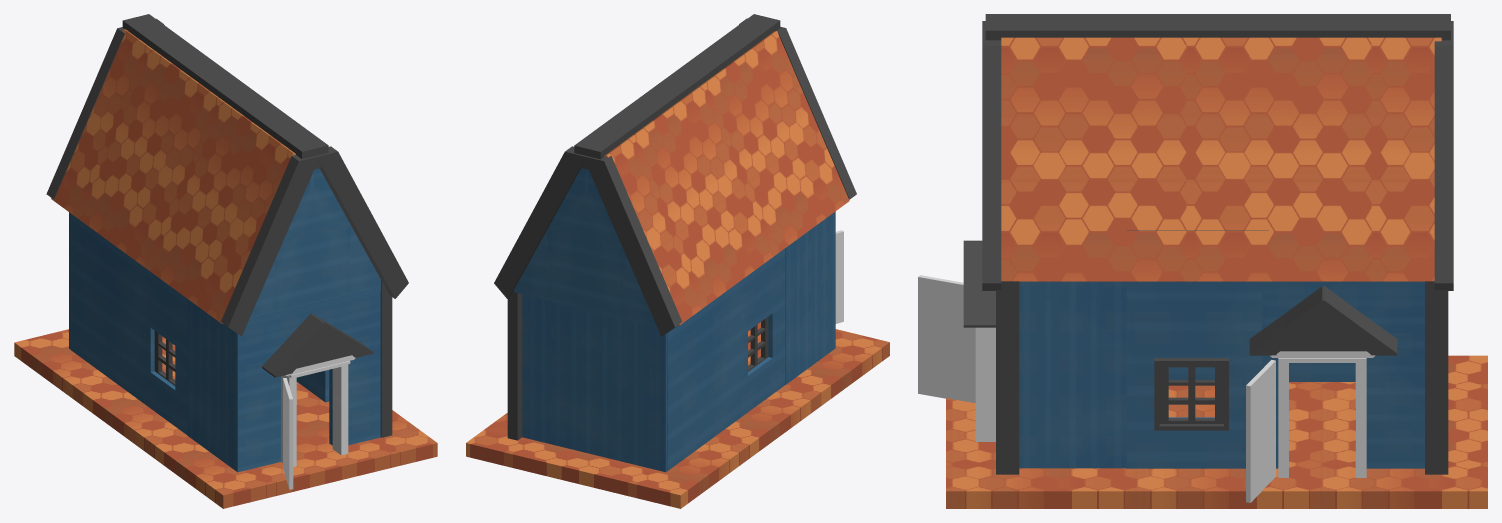
The model's file is MediumHouse.fbx.
3 renders of one model, left to right at view 1: azimuth 30°, elevation 25°; view 2: azimuth 150°, elevation 25°; view 3: azimuth 270°, elevation 25°, orthographic. The views are drawn at different scales.
Parts seen in each view (by area): view 1: Plane.013, Plane.018, Plane.138, Plane.012, Plane, Plane.007, Plane.016, Plane.135, Plane.030, Plane.009, Plane.017, Plane.008 (+4 smaller); view 2: Plane.013, Plane.021, Plane.018, Plane.138, Plane.136, Plane.012, Plane.007, Plane.135, Plane.052, Plane.029, Plane.137; view 3: Plane.013, Plane.018, Plane.007, Plane.102, Plane.135, Plane.134, Plane.012, Plane.133, Plane.017, Plane.052, Plane.079, Plane.029 (+10 smaller).
Part boxes in pixels (box(x1,y1,x2,y2)): Plane.013: box(51, 29, 295, 323); Plane.018: box(14, 329, 437, 508); Plane.138: box(70, 213, 187, 435); Plane.012: box(46, 18, 408, 336); Plane: box(250, 168, 381, 317); Plane.007: box(187, 290, 381, 472); Plane.016: box(238, 303, 309, 471); Plane.135: box(122, 14, 328, 169); Plane.030: box(309, 286, 381, 445); Plane.009: box(262, 313, 373, 377); Plane.017: box(381, 280, 392, 437); Plane.008: box(319, 364, 348, 455); Plane.013: box(604, 31, 849, 325); Plane.021: box(522, 294, 667, 472); Plane.018: box(466, 322, 889, 508); Plane.138: box(667, 248, 785, 470); Plane.136: box(514, 168, 656, 326); Plane.012: box(494, 18, 856, 336); Plane.007: box(785, 211, 835, 384); Plane.135: box(574, 14, 780, 169); Plane.052: box(507, 290, 522, 440); Plane.029: box(835, 230, 843, 323); Plane.137: box(748, 317, 768, 371); Plane.013: box(1001, 37, 1441, 281); Plane.018: box(946, 355, 1487, 508); Plane.007: box(1019, 281, 1126, 468); Plane.102: box(1126, 230, 1268, 468); Plane.135: box(985, 14, 1450, 40); Plane.134: box(1321, 281, 1424, 468); Plane.012: box(982, 21, 1453, 290); Plane.133: box(1249, 286, 1397, 355); Plane.017: box(996, 281, 1019, 474); Plane.052: box(1425, 281, 1448, 474); Plane.079: box(1154, 358, 1228, 430); Plane.029: box(918, 275, 949, 398).
Size of the model in its own units: 68.28 by 93.27 by 112.
